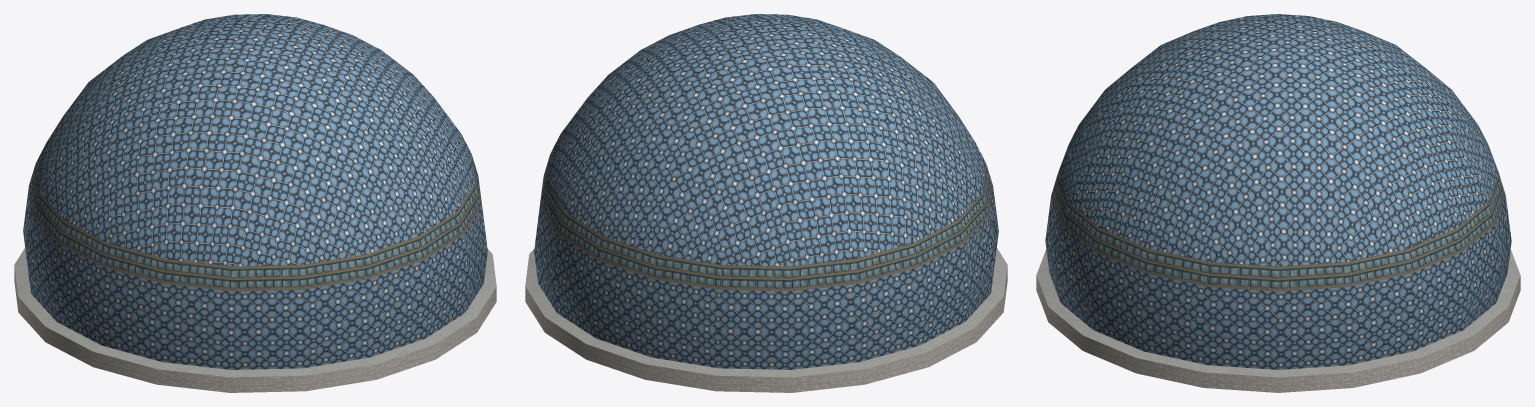
Rendered from Canada_track_landmark_01.dae.
3 views of the same model, side by side, from view 1: azimuth 30°, elevation 25°; view 2: azimuth 150°, elevation 25°; view 3: azimuth 270°, elevation 25° (orthographic).
Parts seen in each view (by area): view 1: Canada_track_landmark_01; view 2: Canada_track_landmark_01; view 3: Canada_track_landmark_01.
Boxes of the visible parts, bbox=[...] form: Canada_track_landmark_01: bbox=[14, 14, 496, 392]; Canada_track_landmark_01: bbox=[525, 14, 1007, 392]; Canada_track_landmark_01: bbox=[1036, 14, 1520, 392].
Size of the model in its own units: 5.45 by 5.45 by 3.16.
4 materials, 4 textured.
